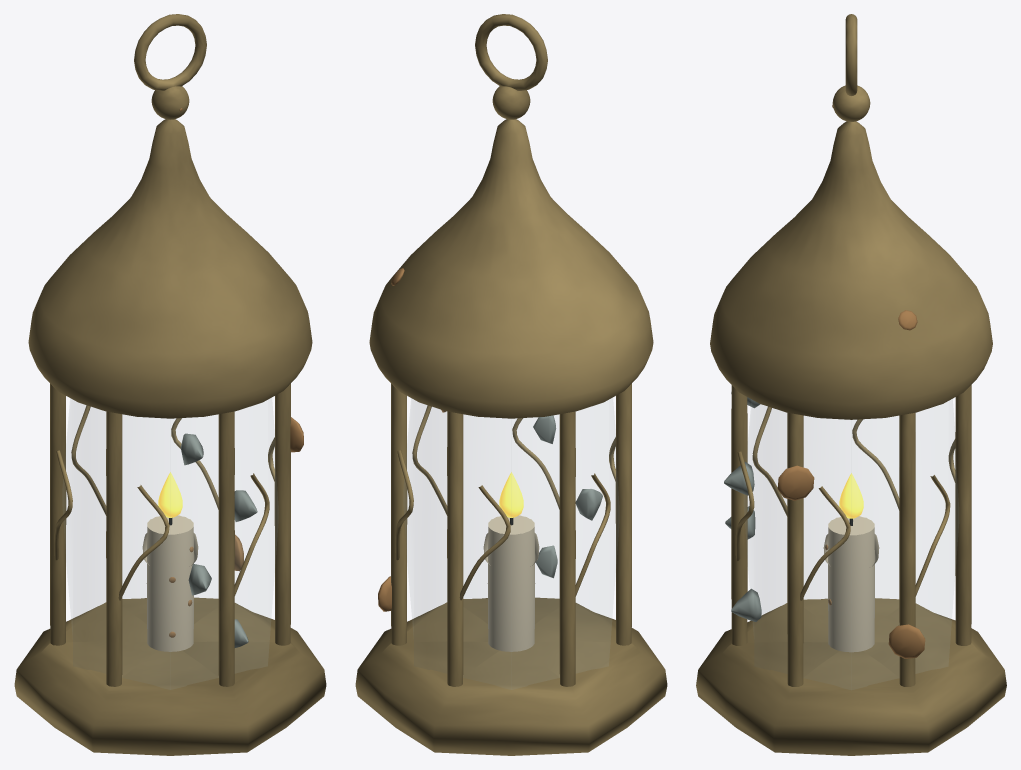
The picture shows the model from 3 angles, left to right: view 1: azimuth 30°, elevation 25°; view 2: azimuth 150°, elevation 25°; view 3: azimuth 270°, elevation 25°; orthographic projection.
Visible parts, largest first — view 1: aged brass fittings, blown glass, tallow wax, mineral inclusion, lamp flame, peened pin; view 2: aged brass fittings, blown glass, tallow wax, mineral inclusion, lamp flame, peened pin; view 3: aged brass fittings, blown glass, tallow wax, peened pin, mineral inclusion, lamp flame.
Part boxes in pixels (box(x1,y1,x2,y2)): aged brass fittings: box(14, 14, 326, 755); blown glass: box(63, 398, 277, 689); tallow wax: box(142, 515, 198, 651); mineral inclusion: box(180, 433, 257, 647); lamp flame: box(158, 472, 182, 517); peened pin: box(179, 108, 303, 571); aged brass fittings: box(355, 14, 667, 755); blown glass: box(404, 398, 618, 689); tallow wax: box(483, 515, 539, 651); mineral inclusion: box(533, 415, 602, 578); lamp flame: box(499, 472, 523, 517); peened pin: box(378, 268, 445, 611); aged brass fittings: box(696, 14, 1006, 755); blown glass: box(744, 399, 958, 689); tallow wax: box(823, 516, 879, 652); peened pin: box(777, 105, 925, 658); mineral inclusion: box(724, 392, 761, 621); lamp flame: box(839, 473, 863, 518).
Size of the model in its own units: 0.2477 by 0.638 by 0.2637.
7 materials, 1 textured.
